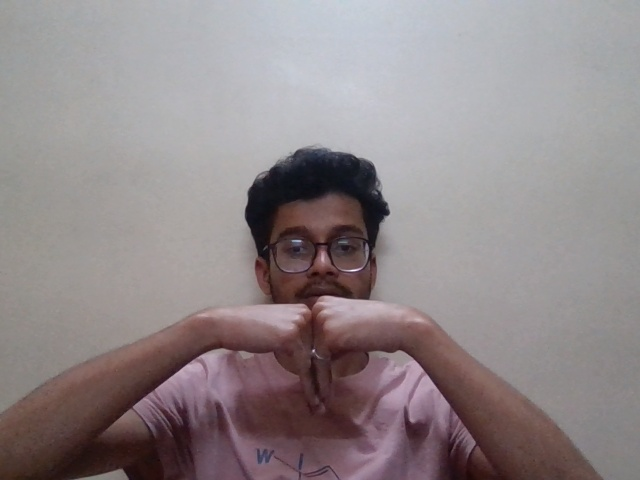yesterday: (197, 291, 425, 427)
